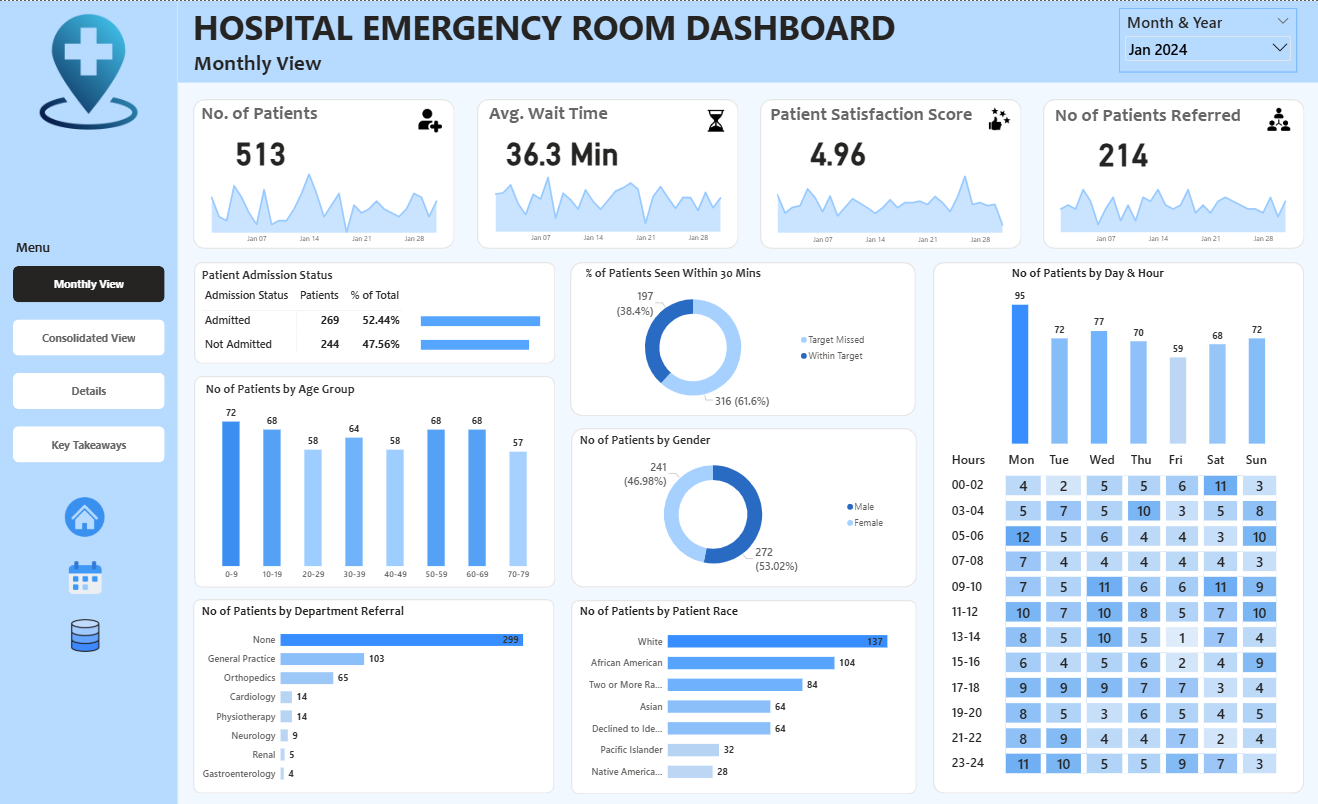

What the dashboard file says about the page in this screenshot:
{"tool":"powerbi","page":{"name":"Monthly View","canvas":[2300,1400],"ordinal":0},"visuals":[{"type":"shape","box":[338.5,171.3,455.5,261.2],"z":0},{"type":"shape","box":[1324.7,171.3,455.5,261.2],"z":1000},{"type":"shape","box":[0,0,311.3,1399.9],"z":2000},{"type":"shape","box":[831.6,171.3,455.5,261.2],"z":3000},{"type":"card","fields":{"Values":["Hospital ER_Hospital ER.No of Patients"]},"box":[374,225.7,160.9,66.9],"z":4000},{"type":"card","fields":{"Values":["Hospital ER_Hospital ER.Avg Wait Time"]},"box":[869.2,225.7,223.6,66.9],"z":5000},{"type":"card","fields":{"Values":["Avg(Hospital ER_Hospital ER.Patient Satisfaction Score)"]},"box":[1381.4,225.6,160.9,66.9],"z":6000},{"type":"shape","box":[1817.8,171.3,455.5,261.2],"z":7000},{"type":"card","fields":{"Values":["Hospital ER_Hospital ER.Measure"]},"box":[1876.7,227.6,160.9,66.9],"z":8000},{"type":"shape","box":[311.3,0,1989.1,142.1],"z":9000},{"type":"slicer","fields":{"Values":["Calendar Table.Month & Year"]},"box":[1950.8,12.2,309.8,112.1],"z":10000},{"type":"textbox","box":[339.2,171.3,227.8,56.5],"z":11000},{"type":"textbox","box":[841.3,171.3,231.1,56.5],"z":12000},{"type":"textbox","box":[1331.2,172,377.5,55.8],"z":13000},{"type":"textbox","box":[1828.2,173.4,344.8,56.4],"z":14000},{"type":"areaChart","fields":{"Category":["Calendar Table.Date.Variation.Date Hierarchy.Year","Calendar Table.Date.Variation.Date Hierarchy.Quarter","Calendar Table.Date.Variation.Date Hierarchy.Month","Calendar Table.Date.Variation.Date Hierarchy.Day"],"Y":["Hospital ER_Hospital ER.No of Patients"]},"box":[348.4,288.1,435.5,145.2],"z":15000},{"type":"areaChart","fields":{"Category":["Calendar Table.Date.Variation.Date Hierarchy.Year","Calendar Table.Date.Variation.Date Hierarchy.Quarter","Calendar Table.Date.Variation.Date Hierarchy.Month","Calendar Table.Date.Variation.Date Hierarchy.Day"],"Y":["Avg(Hospital ER_Hospital ER.Patient Waittime)"]},"box":[842.1,285.9,435.5,145.2],"z":16000},{"type":"areaChart","fields":{"Category":["Calendar Table.Date.Variation.Date Hierarchy.Year","Calendar Table.Date.Variation.Date Hierarchy.Quarter","Calendar Table.Date.Variation.Date Hierarchy.Month","Calendar Table.Date.Variation.Date Hierarchy.Day"],"Y":["Avg(Hospital ER_Hospital ER.Patient Satisfaction Score)"]},"box":[1333.4,290.4,435.5,142.9],"z":17000},{"type":"areaChart","fields":{"Category":["Calendar Table.Date.Variation.Date Hierarchy.Year","Calendar Table.Date.Variation.Date Hierarchy.Quarter","Calendar Table.Date.Variation.Date Hierarchy.Month","Calendar Table.Date.Variation.Date Hierarchy.Day"],"Y":["Hospital ER_Hospital ER.Measure"]},"box":[1827.1,288.1,435.5,145.2],"z":18000},{"type":"textbox","box":[331.7,0,1281,88.9],"z":19000},{"type":"image","box":[46.9,17.9,218.9,212.2],"z":20000},{"type":"image","box":[1222.3,183.9,52.2,48.1],"z":21000},{"type":"image","box":[724.8,183.1,52.8,51.2],"z":22000},{"type":"image","box":[2198,181.8,62.7,50],"z":23000},{"type":"image","box":[1713.3,179.7,58.5,52.2],"z":24000},{"type":"shape","box":[338.9,455,629.1,177.3],"z":25000},{"type":"shape","box":[994.7,455,602.5,268.3],"z":26000},{"type":"shape","box":[1626.9,455,646.4,925.6],"z":27000},{"type":"shape","box":[996.2,743.7,602.5,277.7],"z":28000},{"type":"donutChart","title":"% of Patients Seen Within 30 Mins","fields":{"Y":["Hospital ER_Hospital ER.No of Patients"],"Category":["Hospital ER_Hospital ER.Waittime Status"]},"box":[1016.6,461,504.4,257.6],"z":29000},{"type":"donutChart","title":"No of Patients by Gender","fields":{"Y":["Hospital ER_Hospital ER.No of Patients"],"Category":["Hospital ER_Hospital ER.Full Gender"]},"box":[1007.2,753.1,547.5,257.3],"z":30000},{"type":"shape","box":[338.9,652.7,629.1,368.7],"z":31000},{"type":"pivotTable","title":"Patient Admission Status","fields":{"Rows":["Hospital ER_Hospital ER.Admission Status"],"Values":["Hospital ER_Hospital ER.No of Patients1","Hospital ER_Hospital ER.No of Patients"]},"box":[347.9,465.5,610,158.3],"z":32000},{"type":"barChart","fields":{"Category":["Hospital ER_Hospital ER.Admission Status"],"Y":["Hospital ER_Hospital ER.No of Patients"]},"box":[729.5,514.6,241.6,120.8],"z":33000},{"type":"clusteredColumnChart","fields":{"Category":["Hospital ER_Hospital ER.Age Group"],"Y":["Hospital ER_Hospital ER.No of Patients"]},"box":[354.6,662.7,599.3,354.6],"z":34000},{"type":"shape","box":[337.3,1041.7,629.1,338.9],"z":35000},{"type":"clusteredBarChart","fields":{"Category":["Hospital ER_Hospital ER.Department Referral"],"Y":["Hospital ER_Hospital ER.No of Patients"]},"box":[348.3,1049.6,602.5,324.8],"z":36000},{"type":"shape","box":[996.5,1043,602.2,338.4],"z":37000},{"type":"clusteredBarChart","fields":{"Y":["Hospital ER_Hospital ER.No of Patients"],"Category":["Hospital ER_Hospital ER.Patient Race"]},"box":[1005.8,1049.2,578.9,324.4],"z":38000},{"type":"pivotTable","fields":{"Columns":["Calendar Table.Day Name"],"Rows":["Hospital ER_Hospital ER.Waittime Interval"],"Values":["Hospital ER_Hospital ER.No of Patients"]},"box":[1649.4,776.5,606.9,583.6],"z":39000},{"type":"clusteredColumnChart","title":"No of Patients by Day & Hour","fields":{"Category":["Calendar Table.Day Name"],"Y":["Hospital ER_Hospital ER.No of Patients"]},"box":[1758.7,461.3,453.4,315.3],"z":40000},{"type":"textbox","box":[333.7,79.2,411.3,59],"z":41000},{"type":"pageNavigator","box":[24.2,462.3,264.1,343.1],"z":42000},{"type":"textbox","box":[24.2,409.1,99.9,48.3],"z":43000},{"type":"textbox","box":[77.3,1261.1,146.6,37],"z":44000},{"type":"textbox","box":[25.8,1290.1,262.5,62.8],"z":45000},{"type":"textbox","box":[29,1336.8,257.7,45.1],"z":46000},{"type":"image","box":[110.1,854.1,79.5,87.7],"z":47000},{"type":"image","box":[116.2,966.2,67.3,75.4],"z":48000},{"type":"image","box":[116.2,1068.1,67.3,75.4],"z":49000}]}

Visuals, with their boxes in screenshot pixels (x1, y1, x2, y2), scaled from the page's 2300x1400 canvas onto the 1318x804 screenshot:
shape: <region>194, 98, 455, 248</region>
shape: <region>759, 98, 1020, 248</region>
shape: <region>0, 0, 178, 803</region>
shape: <region>477, 98, 738, 248</region>
card - Hospital ER_Hospital ER.No of Patients: <region>214, 130, 307, 168</region>
card - Hospital ER_Hospital ER.Avg Wait Time: <region>498, 130, 626, 168</region>
card - Avg(Hospital ER_Hospital ER.Patient Satisfaction Score): <region>792, 130, 884, 168</region>
shape: <region>1042, 98, 1303, 248</region>
card - Hospital ER_Hospital ER.Measure: <region>1075, 131, 1168, 169</region>
shape: <region>178, 0, 1317, 82</region>
slicer - Calendar Table.Month & Year: <region>1118, 7, 1295, 71</region>
textbox: <region>194, 98, 325, 131</region>
textbox: <region>482, 98, 615, 131</region>
textbox: <region>763, 99, 979, 131</region>
textbox: <region>1048, 100, 1245, 132</region>
areaChart - Calendar Table.Date.Variation.Date Hierarchy.Year x Calendar Table.Date.Variation.Date Hierarchy.Quarter: <region>200, 165, 449, 249</region>
areaChart - Calendar Table.Date.Variation.Date Hierarchy.Year x Calendar Table.Date.Variation.Date Hierarchy.Quarter: <region>483, 164, 732, 248</region>
areaChart - Calendar Table.Date.Variation.Date Hierarchy.Year x Calendar Table.Date.Variation.Date Hierarchy.Quarter: <region>764, 167, 1014, 249</region>
areaChart - Calendar Table.Date.Variation.Date Hierarchy.Year x Calendar Table.Date.Variation.Date Hierarchy.Quarter: <region>1047, 165, 1297, 249</region>
textbox: <region>190, 0, 924, 51</region>
image: <region>27, 10, 152, 132</region>
image: <region>700, 106, 730, 133</region>
image: <region>415, 105, 446, 135</region>
image: <region>1260, 104, 1295, 133</region>
image: <region>982, 103, 1015, 133</region>
shape: <region>194, 261, 555, 363</region>
shape: <region>570, 261, 915, 415</region>
shape: <region>932, 261, 1303, 793</region>
shape: <region>571, 427, 916, 587</region>
"% of Patients Seen Within 30 Mins" donutChart: <region>583, 265, 872, 413</region>
"No of Patients by Gender" donutChart: <region>577, 432, 891, 580</region>
shape: <region>194, 375, 555, 587</region>
"Patient Admission Status" pivotTable: <region>199, 267, 549, 358</region>
barChart - Hospital ER_Hospital ER.Admission Status x Hospital ER_Hospital ER.No of Patients: <region>418, 296, 556, 365</region>
clusteredColumnChart - Hospital ER_Hospital ER.Age Group x Hospital ER_Hospital ER.No of Patients: <region>203, 381, 547, 584</region>
shape: <region>193, 598, 554, 793</region>
clusteredBarChart - Hospital ER_Hospital ER.Department Referral x Hospital ER_Hospital ER.No of Patients: <region>200, 603, 545, 789</region>
shape: <region>571, 599, 916, 793</region>
clusteredBarChart - Hospital ER_Hospital ER.No of Patients x Hospital ER_Hospital ER.Patient Race: <region>576, 603, 908, 789</region>
pivotTable - Calendar Table.Day Name x Hospital ER_Hospital ER.Waittime Interval: <region>945, 446, 1293, 781</region>
"No of Patients by Day & Hour" clusteredColumnChart: <region>1008, 265, 1268, 446</region>
textbox: <region>191, 45, 427, 79</region>
pageNavigator: <region>14, 265, 165, 463</region>
textbox: <region>14, 235, 71, 263</region>
textbox: <region>44, 724, 128, 745</region>
textbox: <region>15, 741, 165, 777</region>
textbox: <region>17, 768, 164, 794</region>
image: <region>63, 490, 109, 541</region>
image: <region>67, 555, 105, 598</region>
image: <region>67, 613, 105, 657</region>
